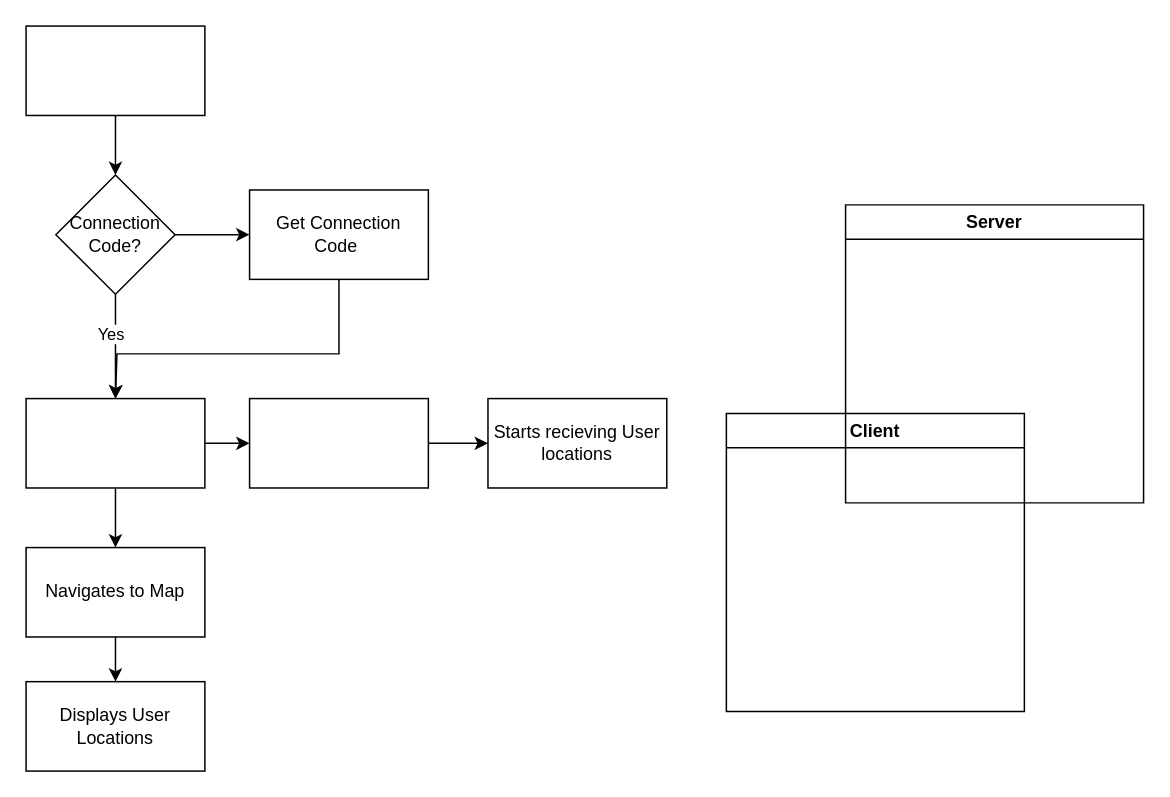
Image size: 1170x797. Some labels were removed from this diagram. Here are the shapes that lost their labels. From the top down, the centre of each, then its label:
At pixel 115 70: "User Opens App".
At pixel 115 442: "Start WebSocket".
At pixel 338 442: "Starts Sharing Locations".
